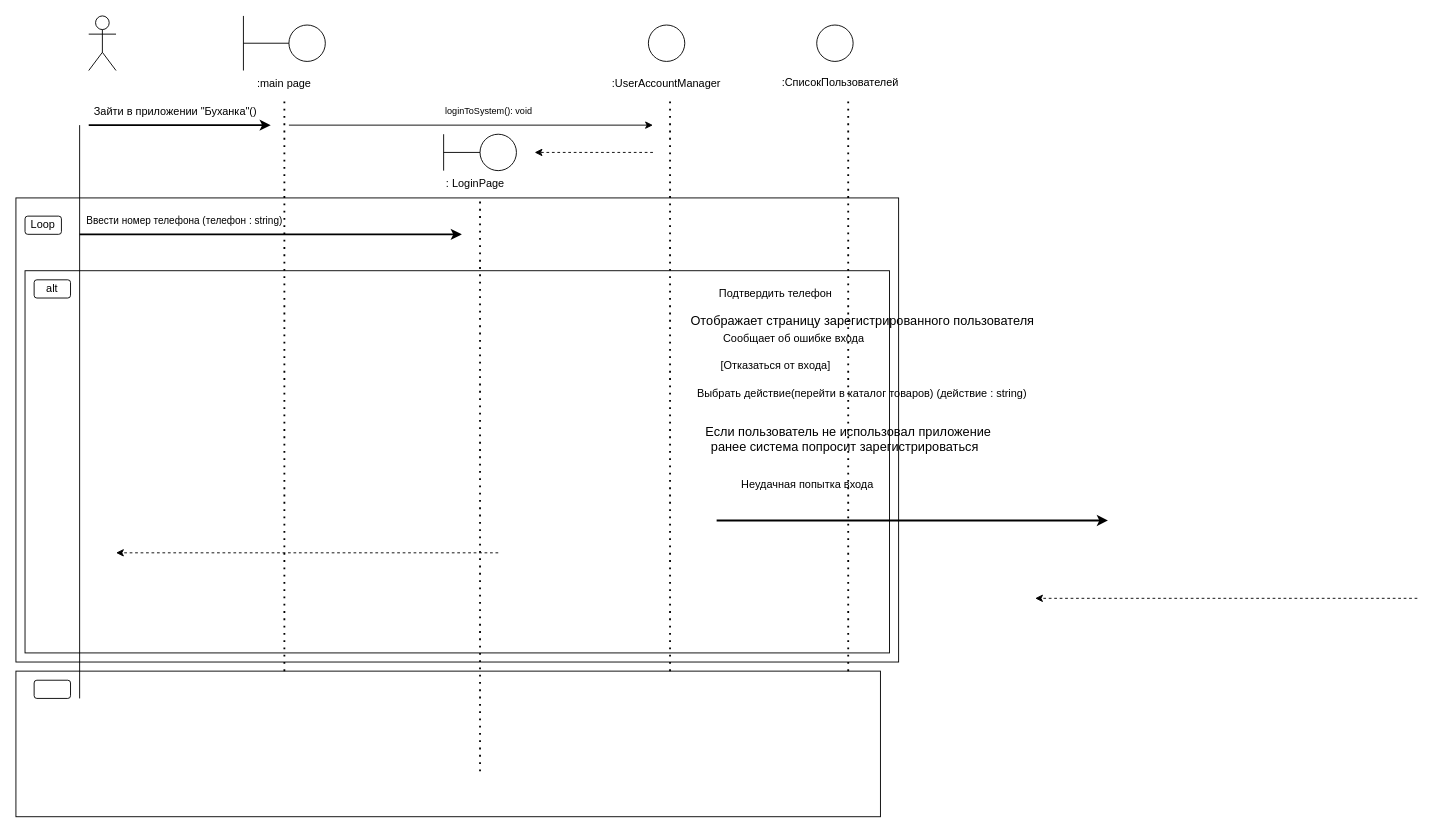
This 1441x833 diagram has some shape labels left out. Each missing label, with the box of its shape:
opt: (33, 679, 71, 698)
Пользователь: (88, 15, 116, 71)
